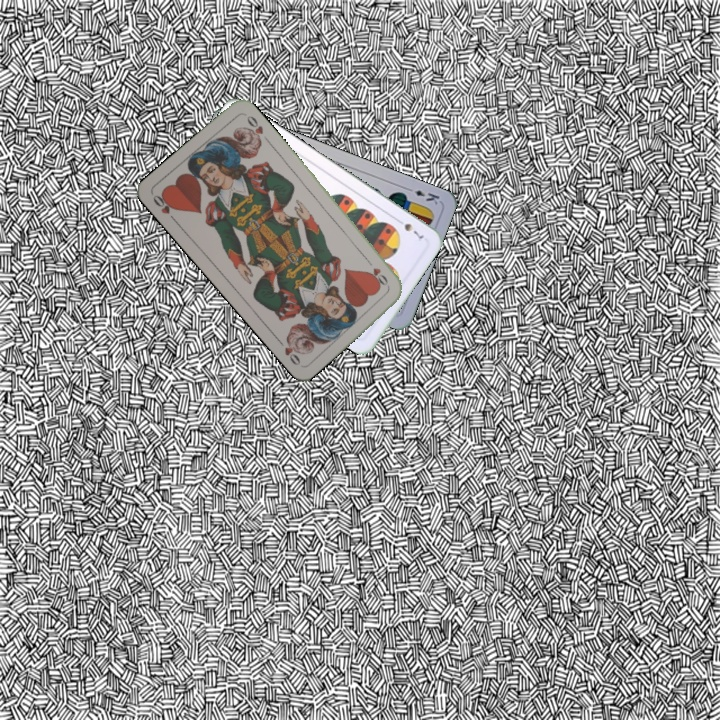EK: (402, 183, 442, 207)
HO: (149, 189, 179, 225), (362, 255, 392, 290)
S7: (392, 214, 427, 242)
